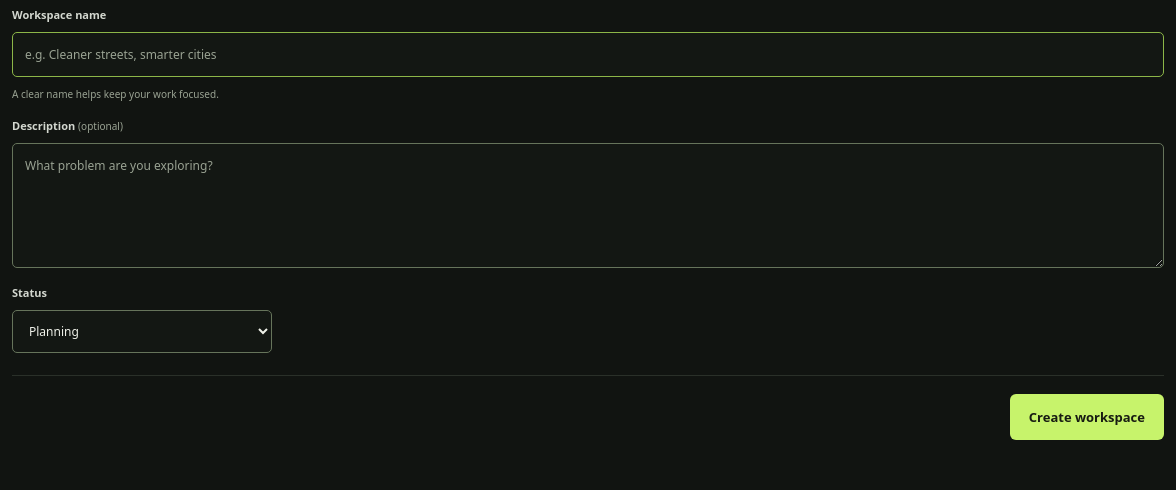
Test: WorkspaceForm › prevents empty names and duplicate submission while saving
Click the button "Create workspace".
click(1087, 417)  # box [1010, 394, 1164, 440]
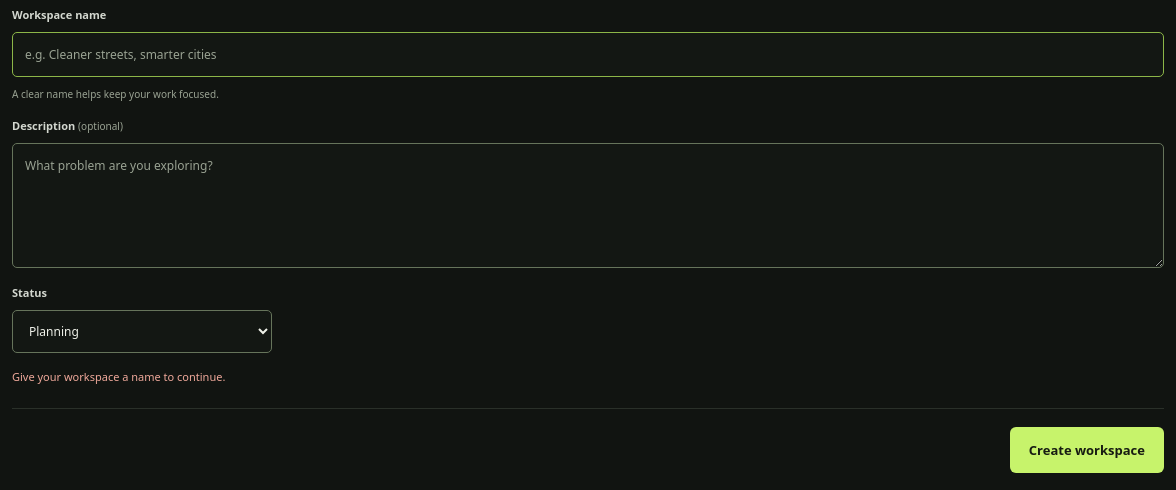
Expected: the message shows "Give your workspace a name", [12, 369, 225, 384]
Type "A useful project" into the field labelled "Workspace name".
click(588, 54); type("A useful project")  # box [12, 32, 1164, 77]
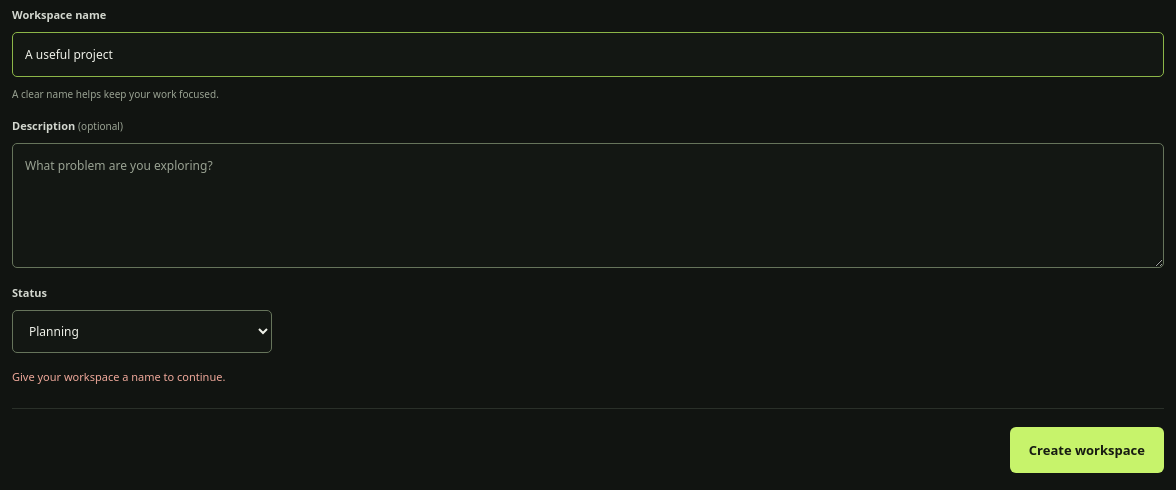
Click the button "Create workspace".
click(1087, 450)  # box [1010, 427, 1164, 473]
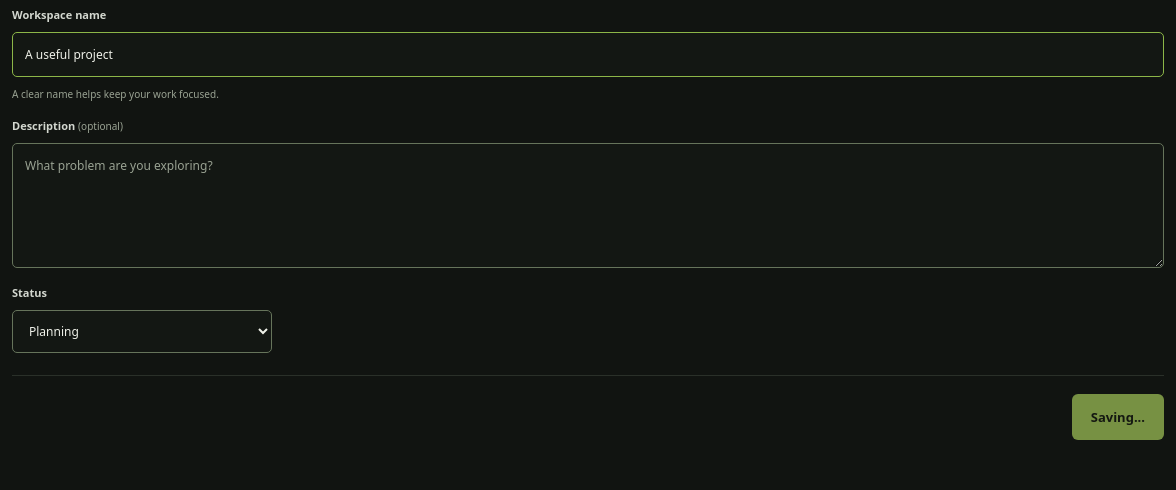
Expected: the button "Saving..." is disabled, [1072, 394, 1164, 440]
